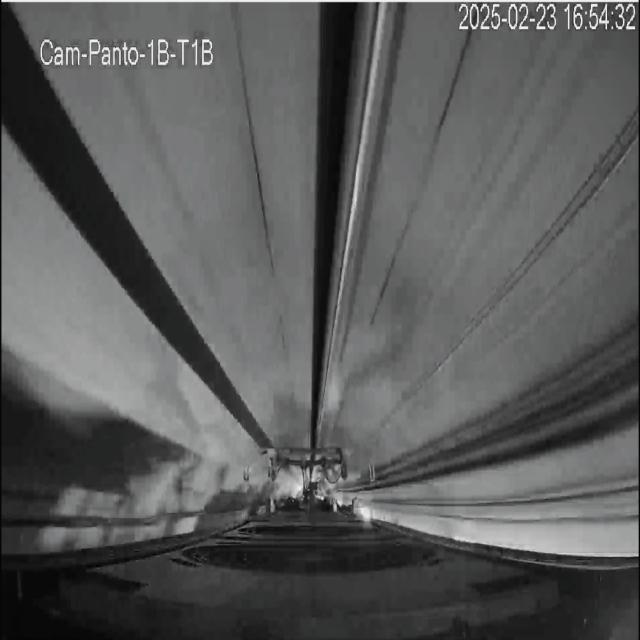Camera Stamp: (35, 29, 222, 72)
Date Stamp: (460, 3, 637, 33)
No - Spark: (254, 453, 352, 515), (267, 394, 304, 447)
